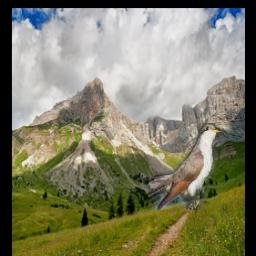Cuckoo: (149, 123, 221, 210)
